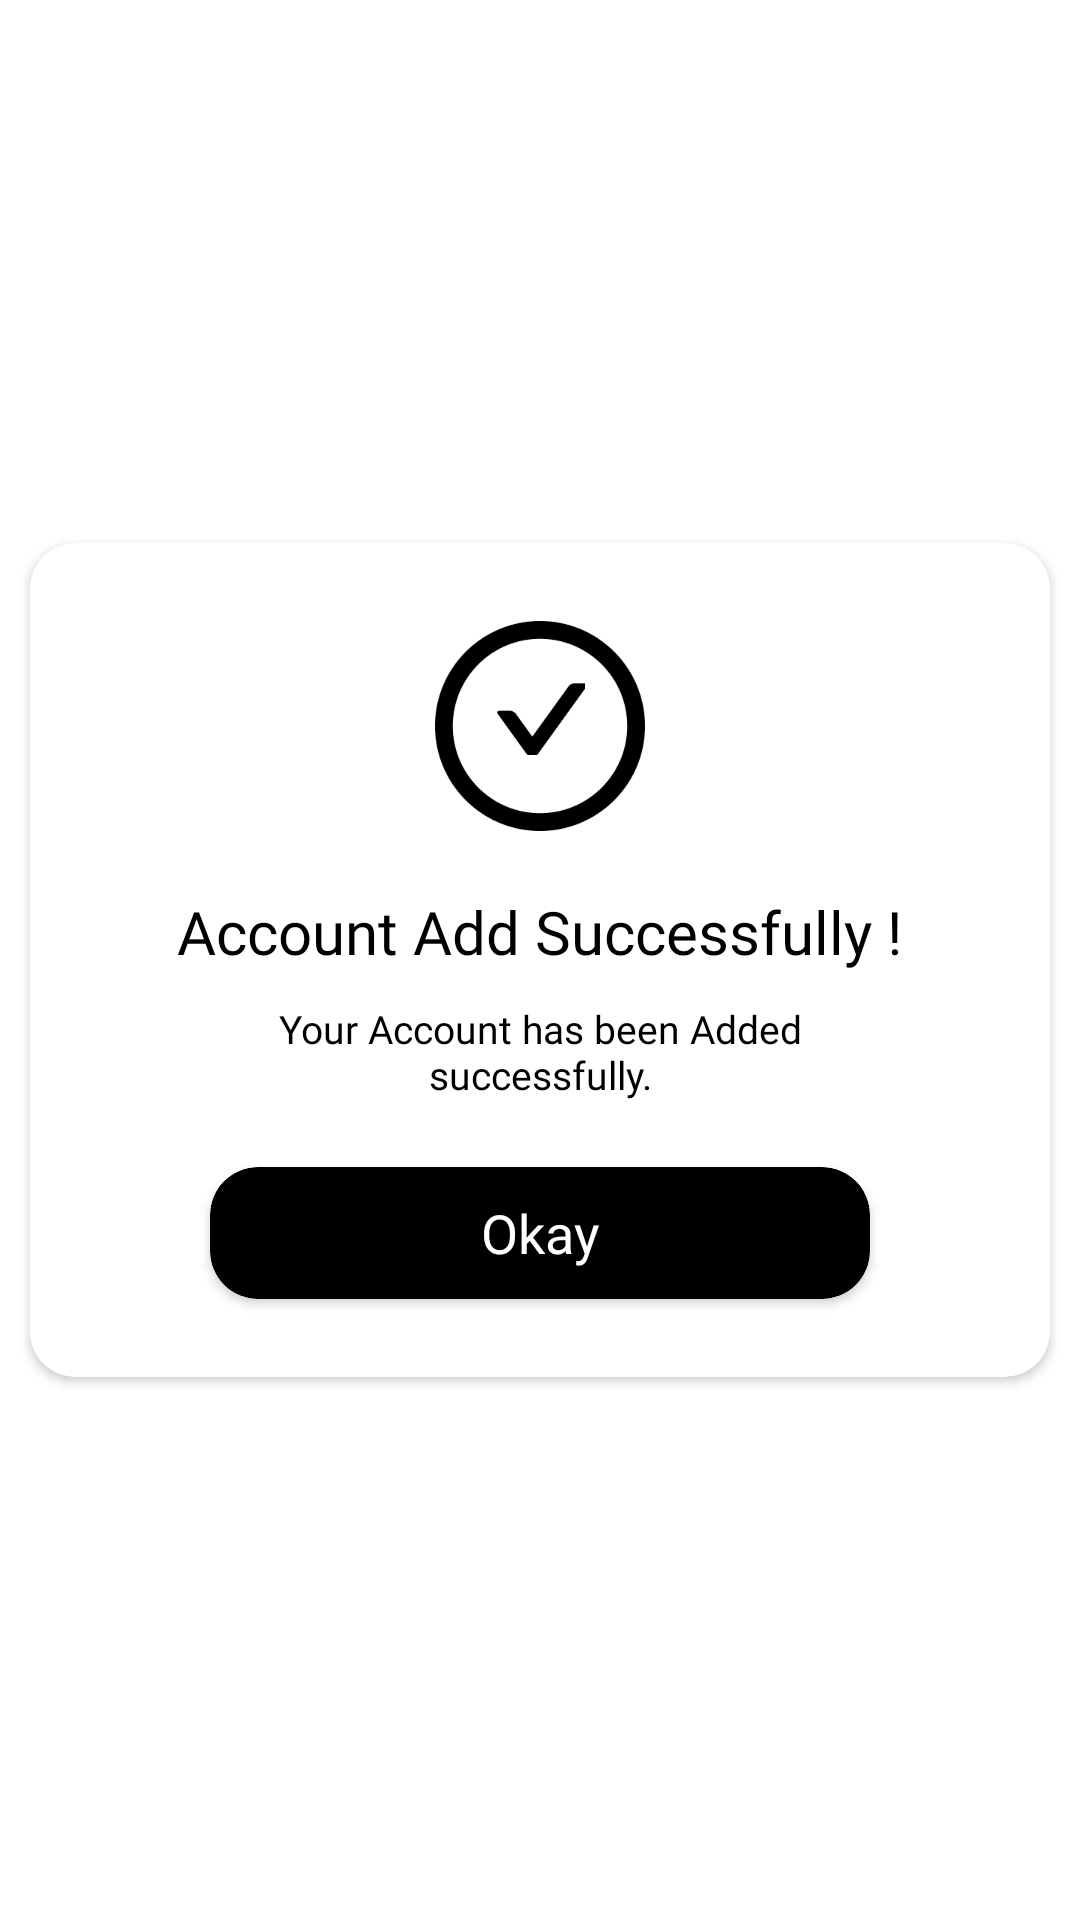

Locate icon controls on the screen. Image size 1080x1920, boxes as (x1, y1, x2, y2).
check arrow: (497, 683, 585, 755)
